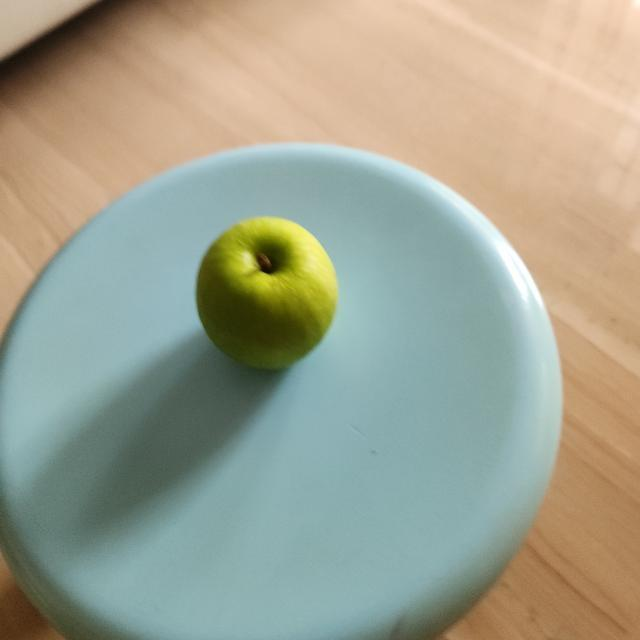apple: (192, 207, 338, 383)
